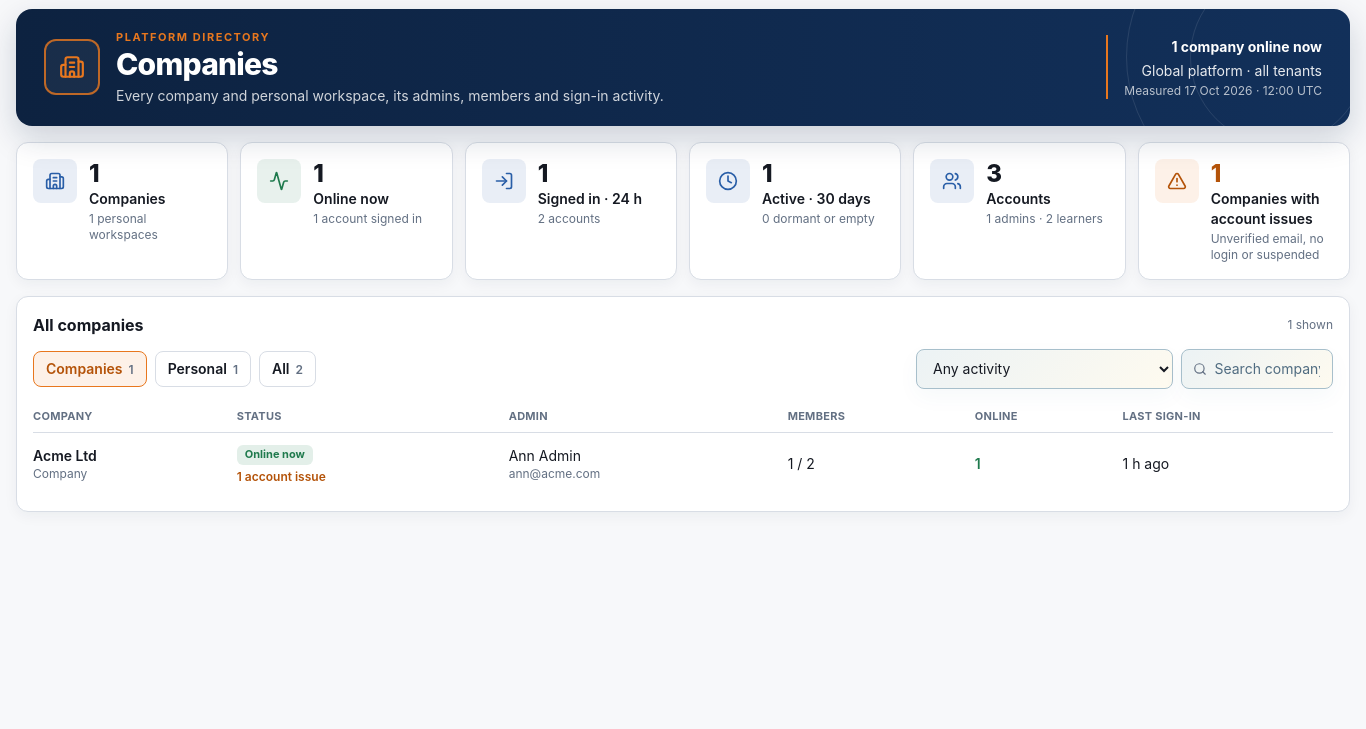
Scenario: Super Admin directory › shows companies with their admin and opens a company's accounts
Check: the text "ann@acme.com" is shown, box top-left (509, 466), bottom-right (600, 481)
Click the button "Acme Ltd" at (65, 456), box top-left (33, 446), bottom-right (97, 466)
(page scrolled)
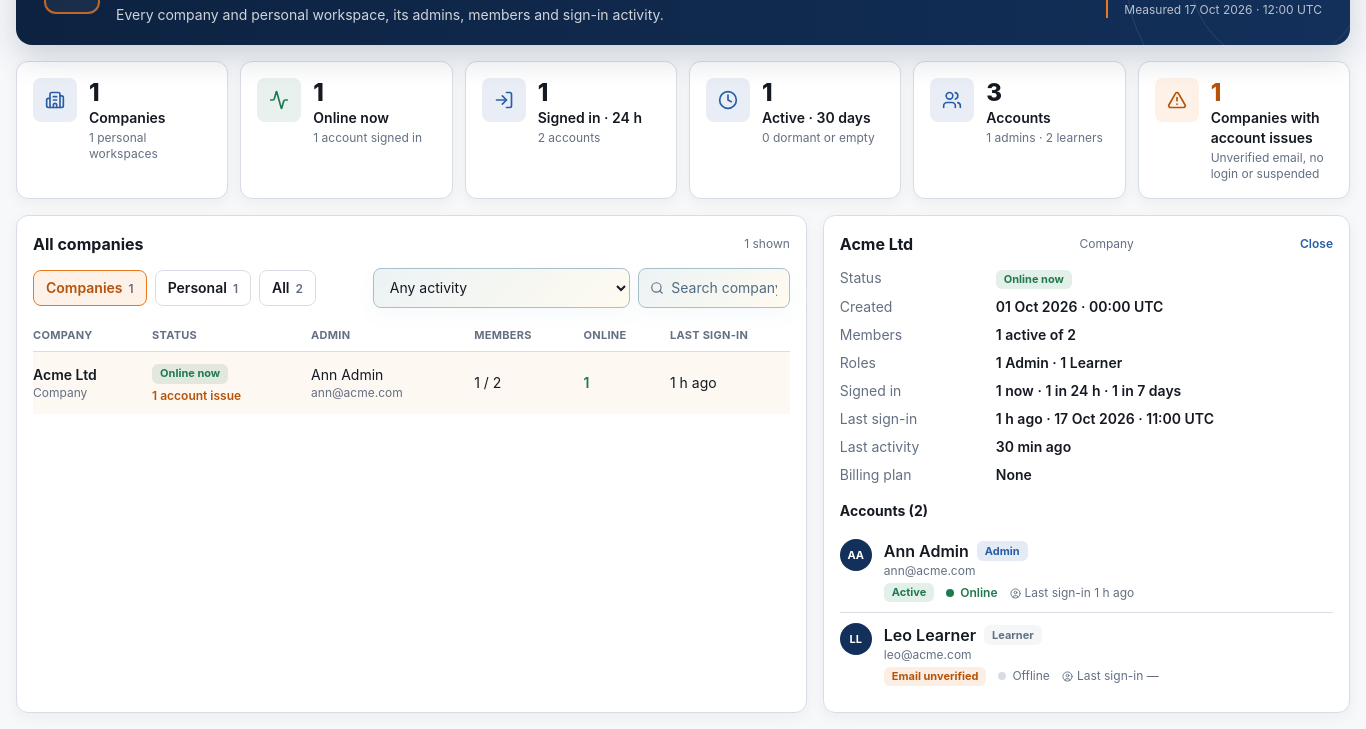
Check: the heading "Accounts (2)" is shown, box top-left (840, 502), bottom-right (928, 519)
Check: the text "leo@acme.com" is shown, box top-left (884, 647), bottom-right (972, 662)
